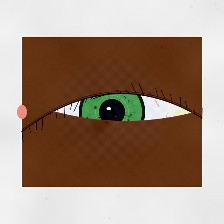pinguecula_lesion: (165, 99, 203, 131)
